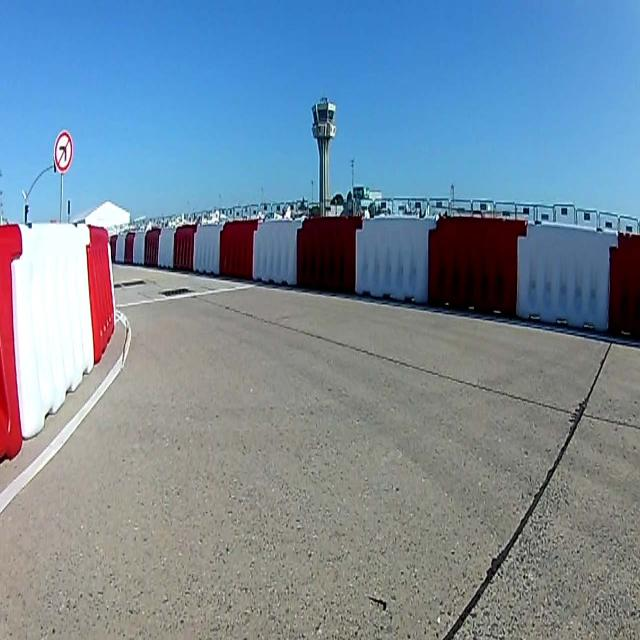soladonulmez: (54, 132, 72, 172)
